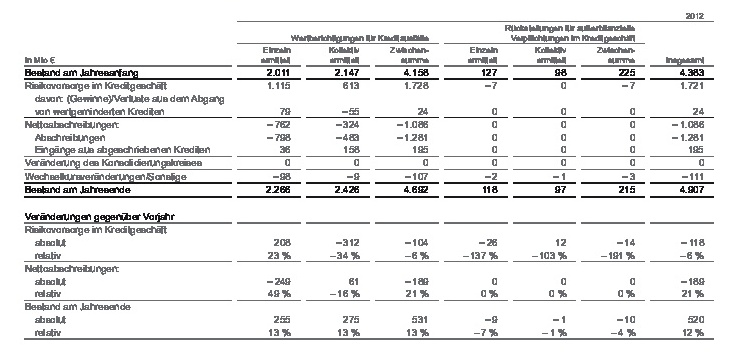table: (0, 0, 739, 354)
